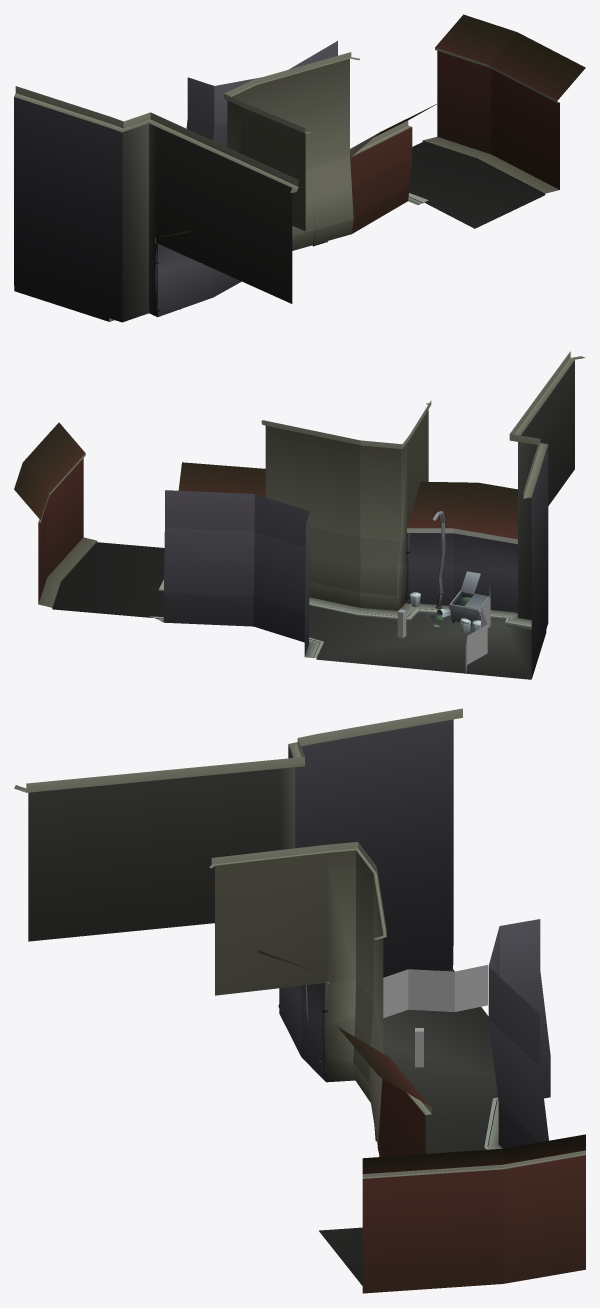
3 renders of one model, top to bottom at view 1: azimuth 30°, elevation 25°; view 2: azimuth 150°, elevation 25°; view 3: azimuth 270°, elevation 25°, orthographic. The views are drawn at different scales.
Visible parts, largest first — view 1: Set; view 2: Set, Dumpster, Fence, Trashcans, Lamp; view 3: Set, Fence.
Part boxes in pixels (box(x1,y1,x2,y2)): Set: box(14, 14, 585, 322); Set: box(14, 351, 585, 679); Dumpster: box(449, 571, 489, 625); Fence: box(465, 586, 490, 673); Trashcans: box(410, 592, 480, 632); Lamp: box(433, 511, 445, 608); Set: box(14, 708, 585, 1293); Fence: box(383, 965, 487, 1017).
Bounding box in the file's own units: 36.34 × 13.12 × 25.57.
